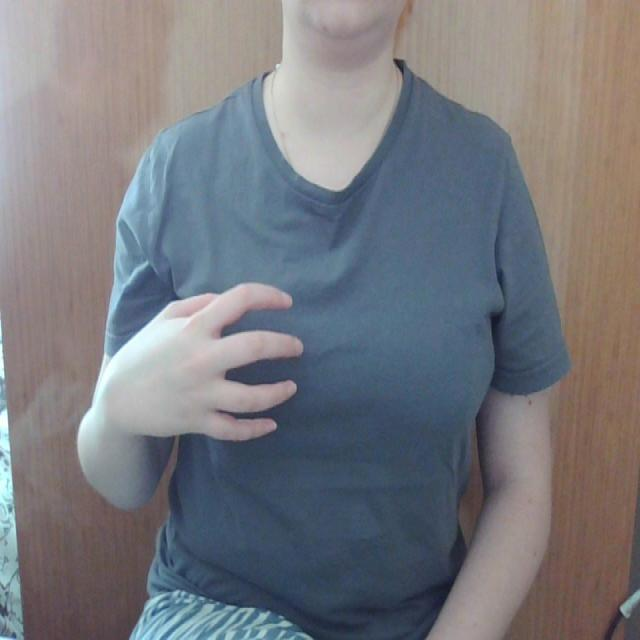Anne: (96, 263, 329, 452)
